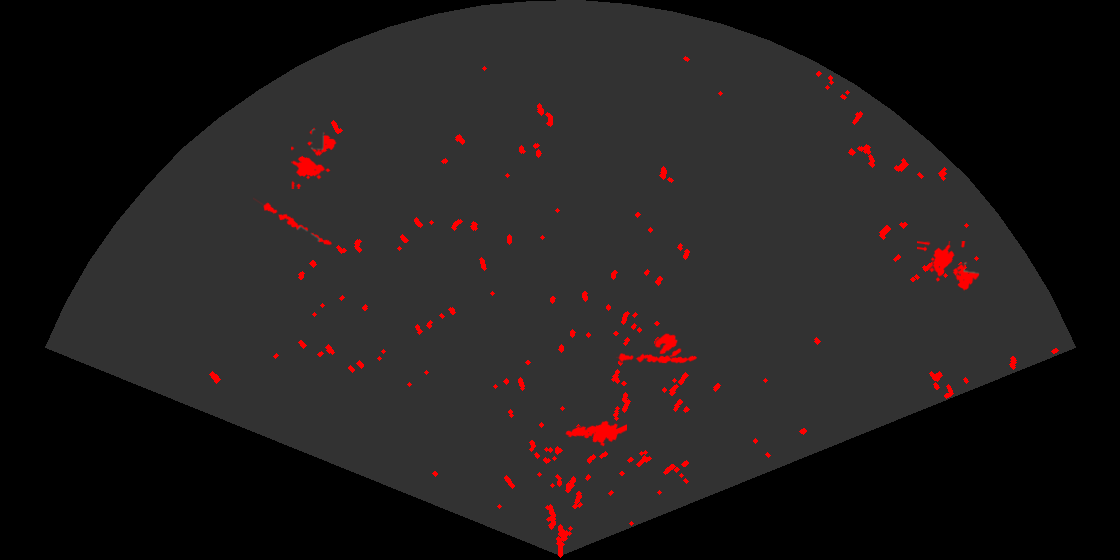ball: (653, 332, 683, 362)
cage: (917, 241, 981, 292), (291, 126, 338, 189)
chain: (253, 196, 334, 247), (616, 352, 697, 365)
frogman: (564, 419, 627, 448)
